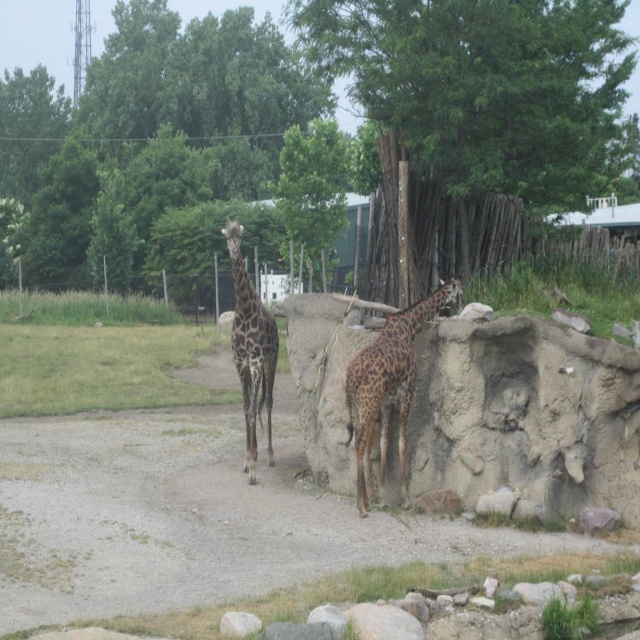Giraffe: (343, 266, 465, 523), (221, 214, 279, 483)
